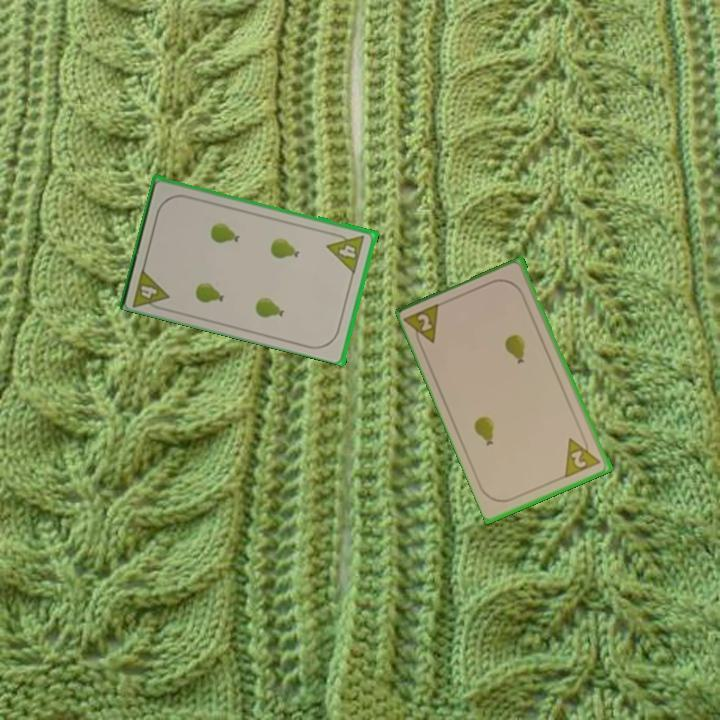2p: (402, 299, 445, 352), (562, 431, 604, 480)
4p: (129, 264, 173, 314), (324, 228, 368, 275)
